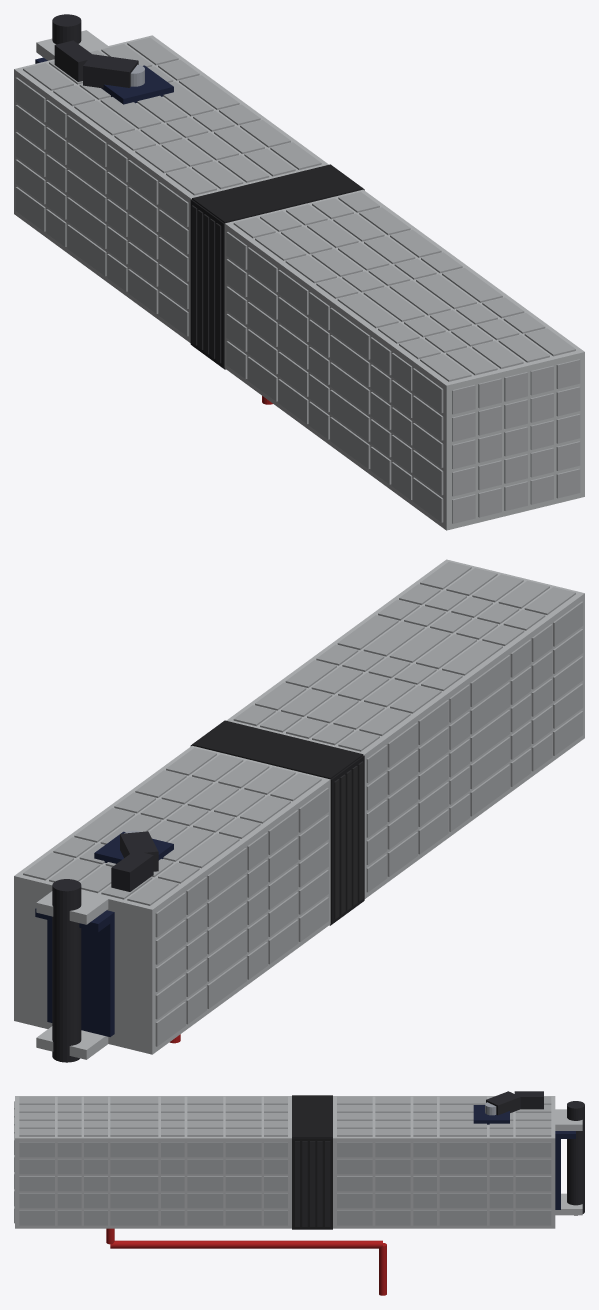
File: leg_right_link.obj
The picture shows the model from 3 angles, top to bottom: view 1: azimuth 30°, elevation 25°; view 2: azimuth 150°, elevation 25°; view 3: azimuth 270°, elevation 25°; orthographic projection. The views are drawn at different scales.
Size of the model in its own units: 0.0456 by 0.086 by 0.2515.
